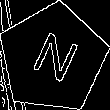N_SW: (24, 27, 81, 90)
